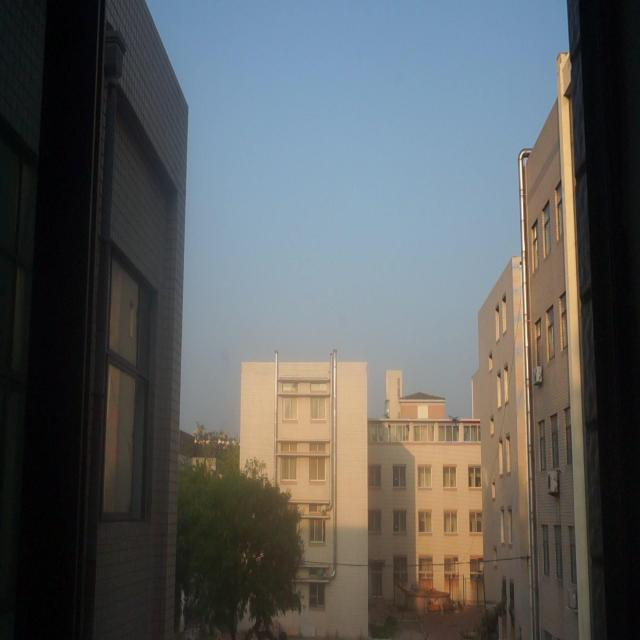drone: (446, 412, 462, 428)
